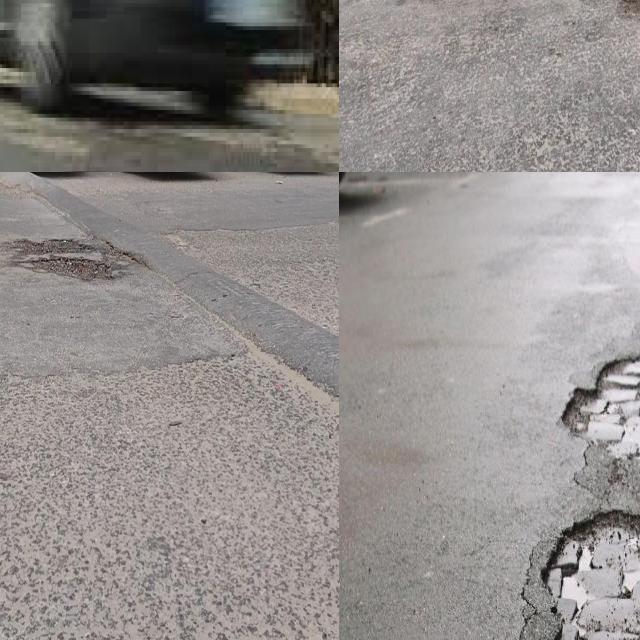Pothole: (540, 511, 640, 640), (560, 356, 640, 462), (5, 239, 114, 286)
